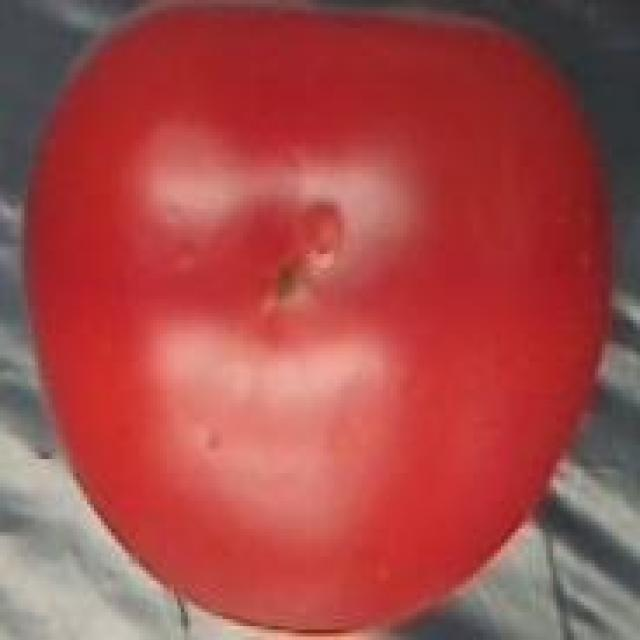overripe tomato: (21, 3, 619, 640)
